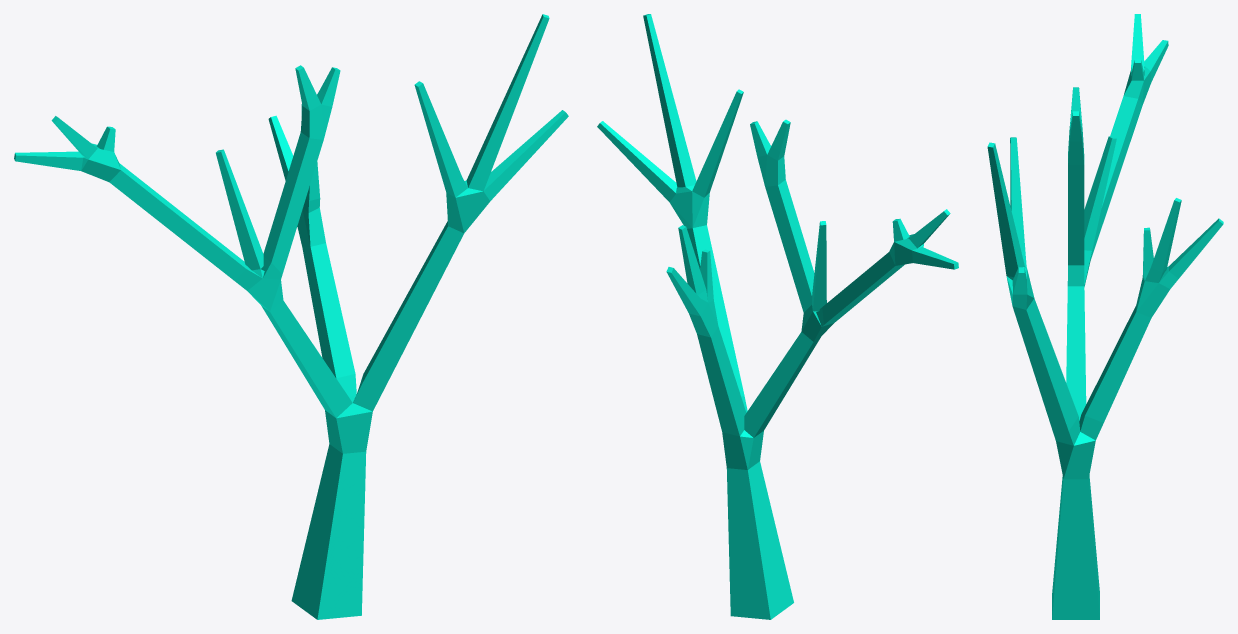
The model's file is Coral1.fbx.
3 views of the same model, side by side, from view 1: azimuth 30°, elevation 25°; view 2: azimuth 150°, elevation 25°; view 3: azimuth 270°, elevation 25° (orthographic). The views are drawn at different scales.
Visible parts, largest first — view 1: Plane; view 2: Plane; view 3: Plane.
Part boxes in pixels (box(x1,y1,x2,y2)): Plane: box(14, 14, 568, 619); Plane: box(597, 14, 958, 619); Plane: box(987, 14, 1223, 619).
Size of the model in its own units: 385 by 455 by 179.
